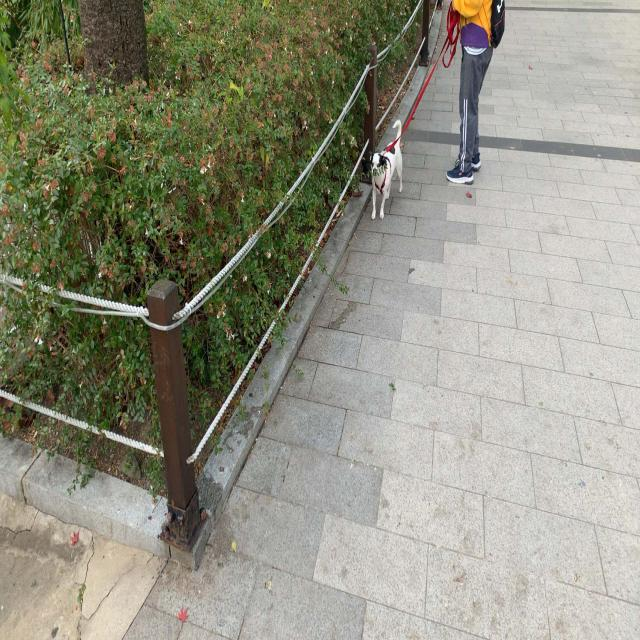Leashed_Dog: (370, 0, 480, 219)
